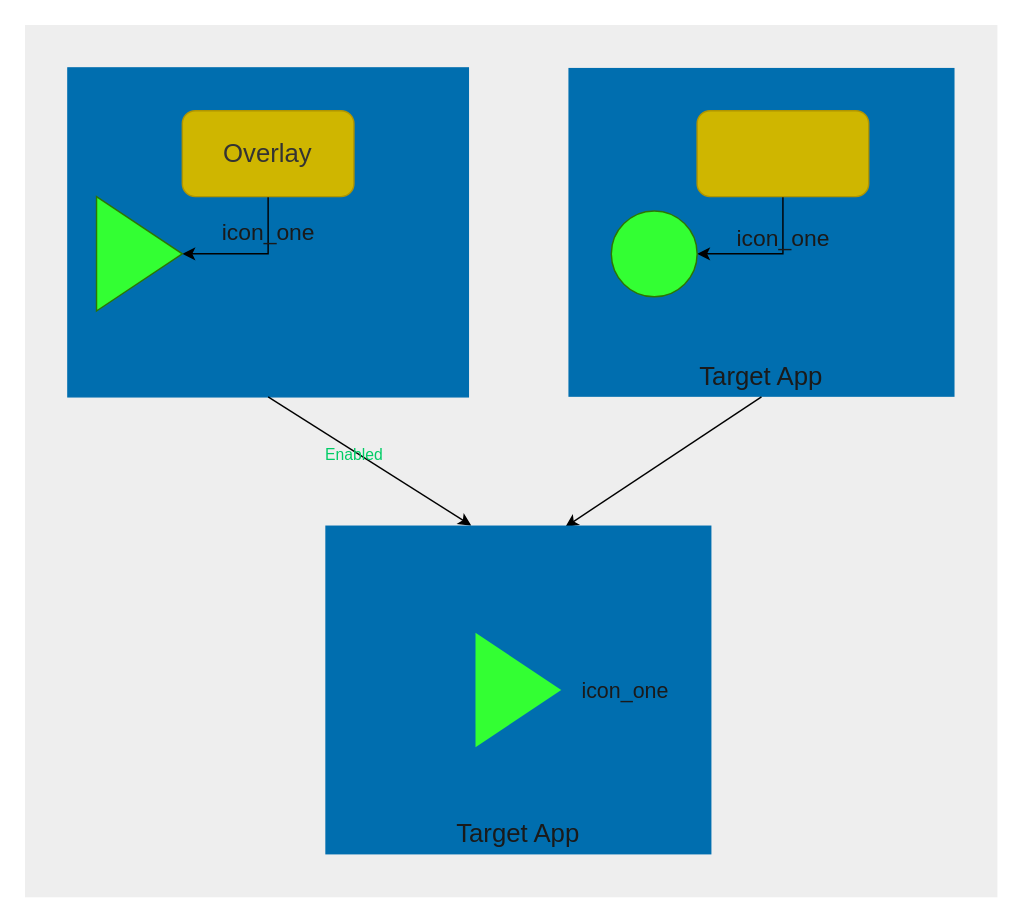
Some shapes in this 1021 by 921 pixel diagram are drawn without their labels. Each missing label, with the box of its shape:
Overlay App: (66, 66, 468, 397)
Overlayable: (696, 109, 869, 197)
